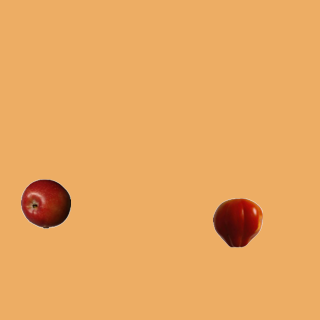Apple Braeburn: (20, 178, 70, 228)
Tomato 1: (212, 197, 262, 247)
